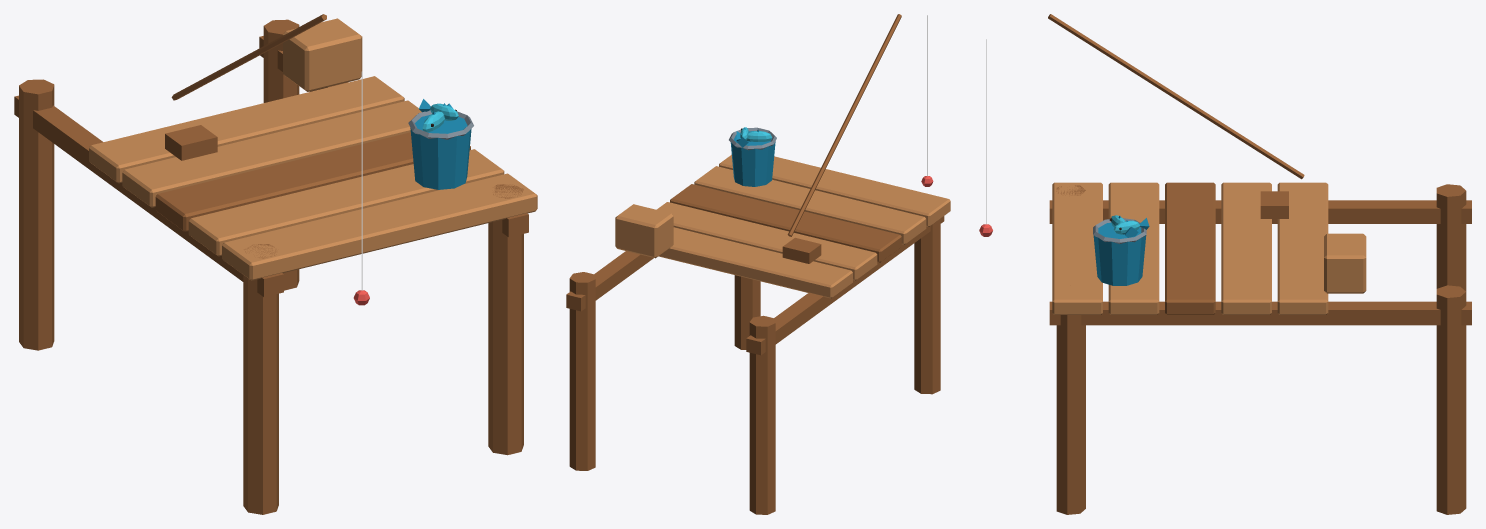
The model's file is station_fishing_pier.glb.
The picture shows the model from 3 angles, left to right: view 1: azimuth 30°, elevation 25°; view 2: azimuth 150°, elevation 25°; view 3: azimuth 270°, elevation 25°; orthographic projection. The views are drawn at different scales.
Visible parts, largest first — view 1: station_fishing_pier; view 2: station_fishing_pier; view 3: station_fishing_pier.
Boxes of the visible parts, x1,y1,x2,y2 form: station_fishing_pier: [14, 14, 537, 514]; station_fishing_pier: [566, 14, 950, 514]; station_fishing_pier: [979, 14, 1471, 514].
Size of the model in its own units: 2 by 3.25 by 3.5.
